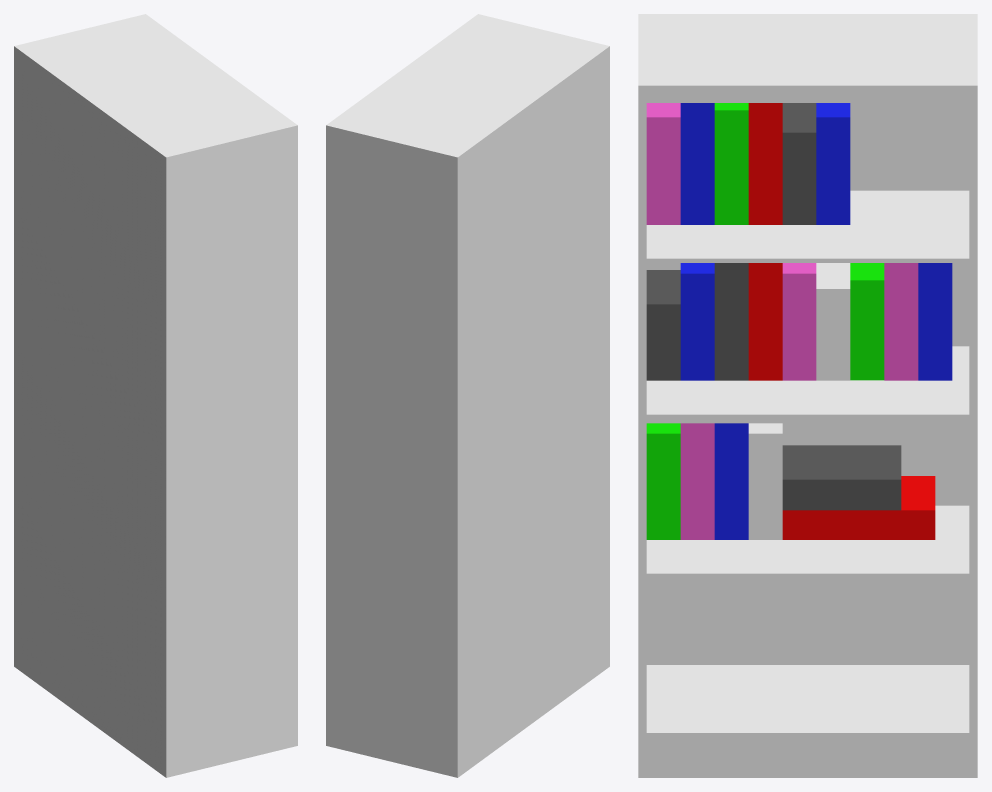
The model's file is Bookshelf.glb.
3 views of the same model, side by side, from view 1: azimuth 30°, elevation 25°; view 2: azimuth 150°, elevation 25°; view 3: azimuth 270°, elevation 25° (orthographic). The views are drawn at different scales.
Visible parts, largest first — view 1: Cube; view 2: Cube; view 3: Cube, Cube.021, Cube.020, Cube.001, Cube.002, Cube.003, Cube.004, Cube.005, Cube.006, Cube.008, Cube.009, Cube.010 (+10 smaller).
Boxes of the visible parts, x1,y1,x2,y2 form: Cube: (14, 14, 297, 777); Cube: (326, 14, 609, 777); Cube: (638, 14, 977, 777); Cube.021: (782, 445, 901, 510); Cube.020: (782, 476, 935, 539); Cube.001: (646, 103, 680, 224); Cube.002: (680, 103, 714, 224); Cube.003: (714, 103, 748, 224); Cube.004: (748, 103, 782, 224); Cube.005: (782, 103, 816, 224); Cube.006: (816, 103, 850, 224); Cube.008: (680, 263, 714, 380); Cube.009: (714, 263, 748, 380); Cube.010: (748, 263, 782, 380).
Size of the model in its own units: 1 by 4.5 by 2.
22 materials, 22 textured.
